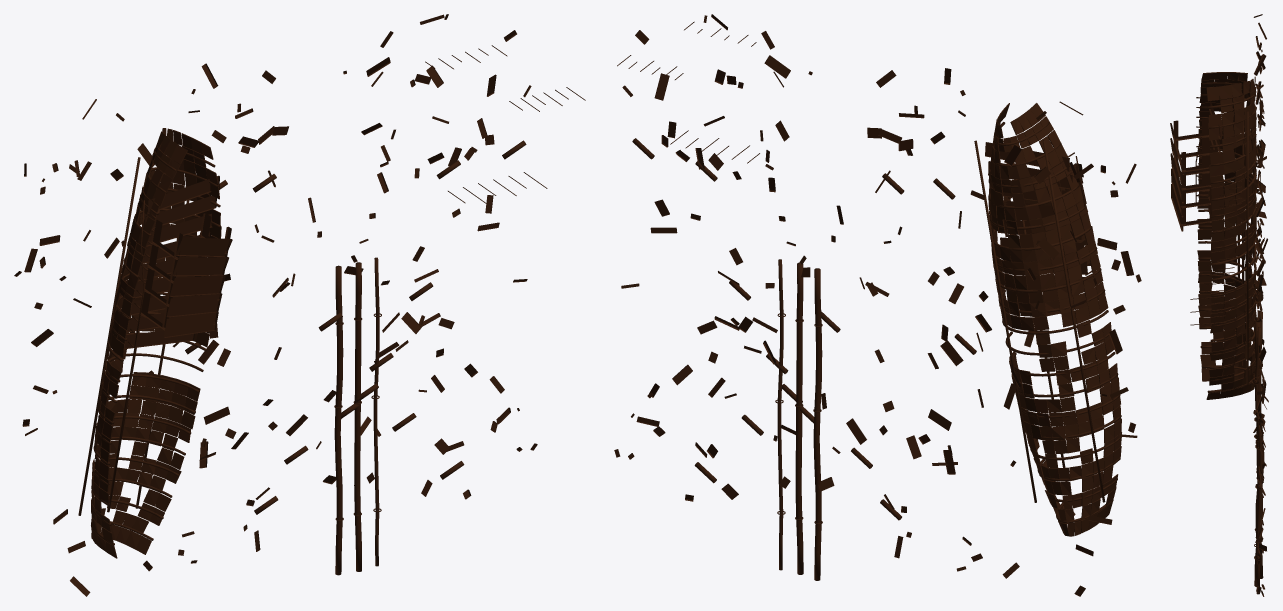
The model's file is metal.obj.
3 views of the same model, side by side, from view 1: azimuth 30°, elevation 25°; view 2: azimuth 150°, elevation 25°; view 3: azimuth 270°, elevation 25° (orthographic). The views are drawn at different scales.
Visible parts, largest first — view 1: metal; view 2: metal; view 3: metal.
Part boxes in pixels (x1,y1,x2,y2): metal: [14, 14, 585, 596]; metal: [614, 14, 1141, 596]; metal: [1170, 14, 1268, 596].
Size of the model in its own units: 40.4 by 38.71 by 7.42.
